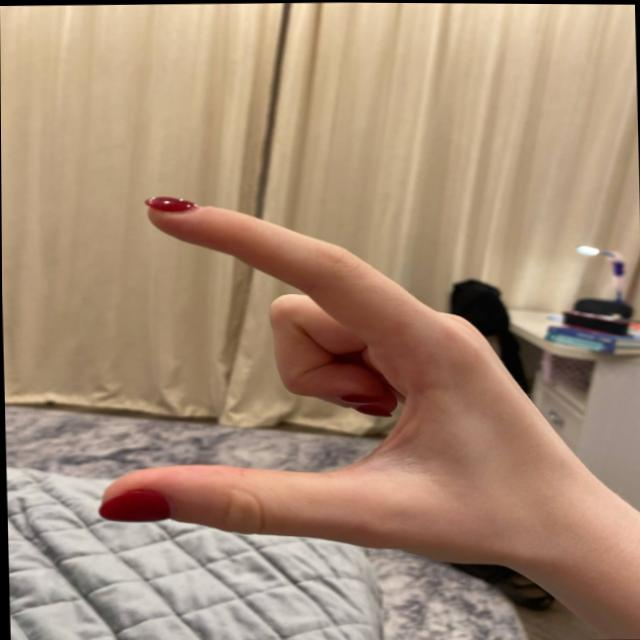uh: (102, 171, 573, 583)
